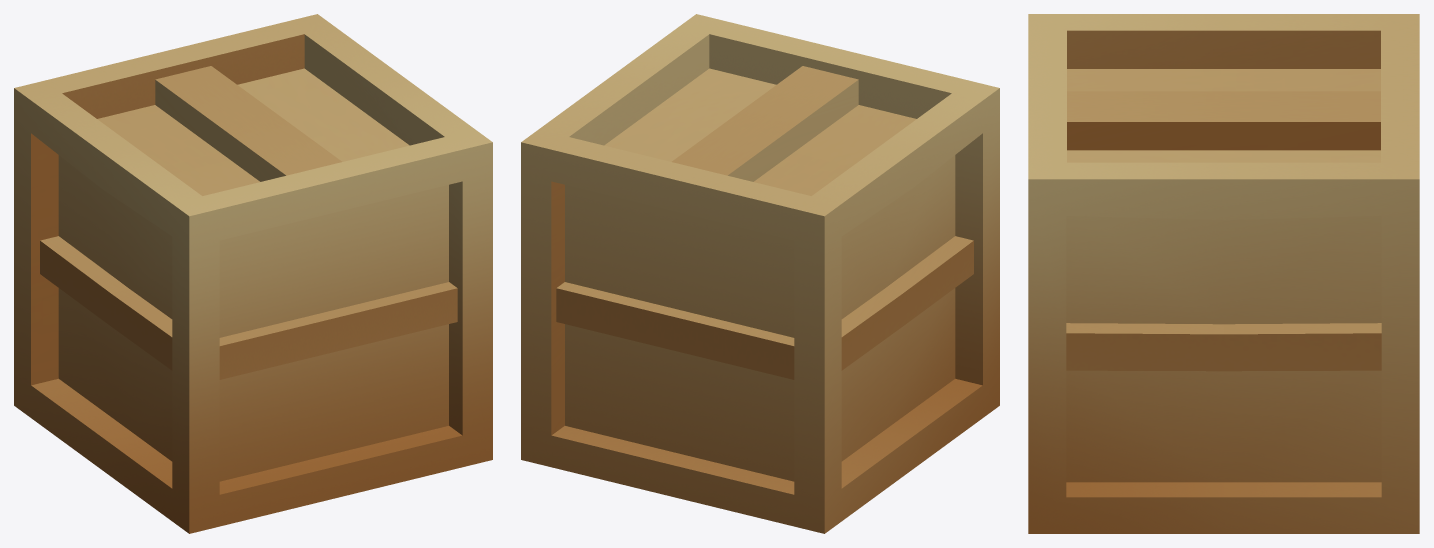
File: caixaInteira.fbx
3 views of the same model, side by side, from view 1: azimuth 30°, elevation 25°; view 2: azimuth 150°, elevation 25°; view 3: azimuth 270°, elevation 25° (orthographic). The views are drawn at different scales.
Visible parts, largest first — view 1: caixaInteira; view 2: caixaInteira; view 3: caixaInteira.
Boxes of the visible parts, x1,y1,x2,y2 form: caixaInteira: (14, 14, 492, 533); caixaInteira: (521, 14, 999, 533); caixaInteira: (1028, 14, 1419, 533).
Bounding box in the file's own units: 200 × 200 × 200.
